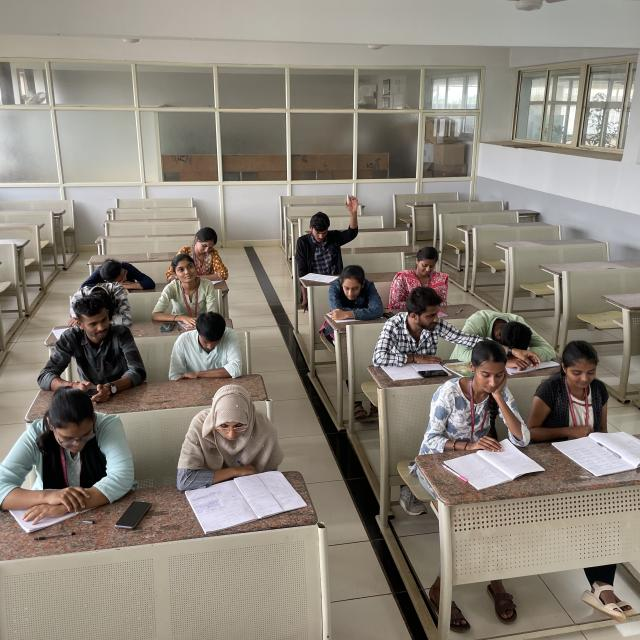Hand Rising: (290, 196, 361, 273)
Reading: (171, 389, 303, 522), (439, 338, 546, 481), (528, 335, 636, 463), (390, 248, 454, 312)
Sleeping: (459, 308, 556, 369), (63, 278, 137, 326), (81, 259, 155, 295)
Using Phone: (42, 300, 146, 404)
